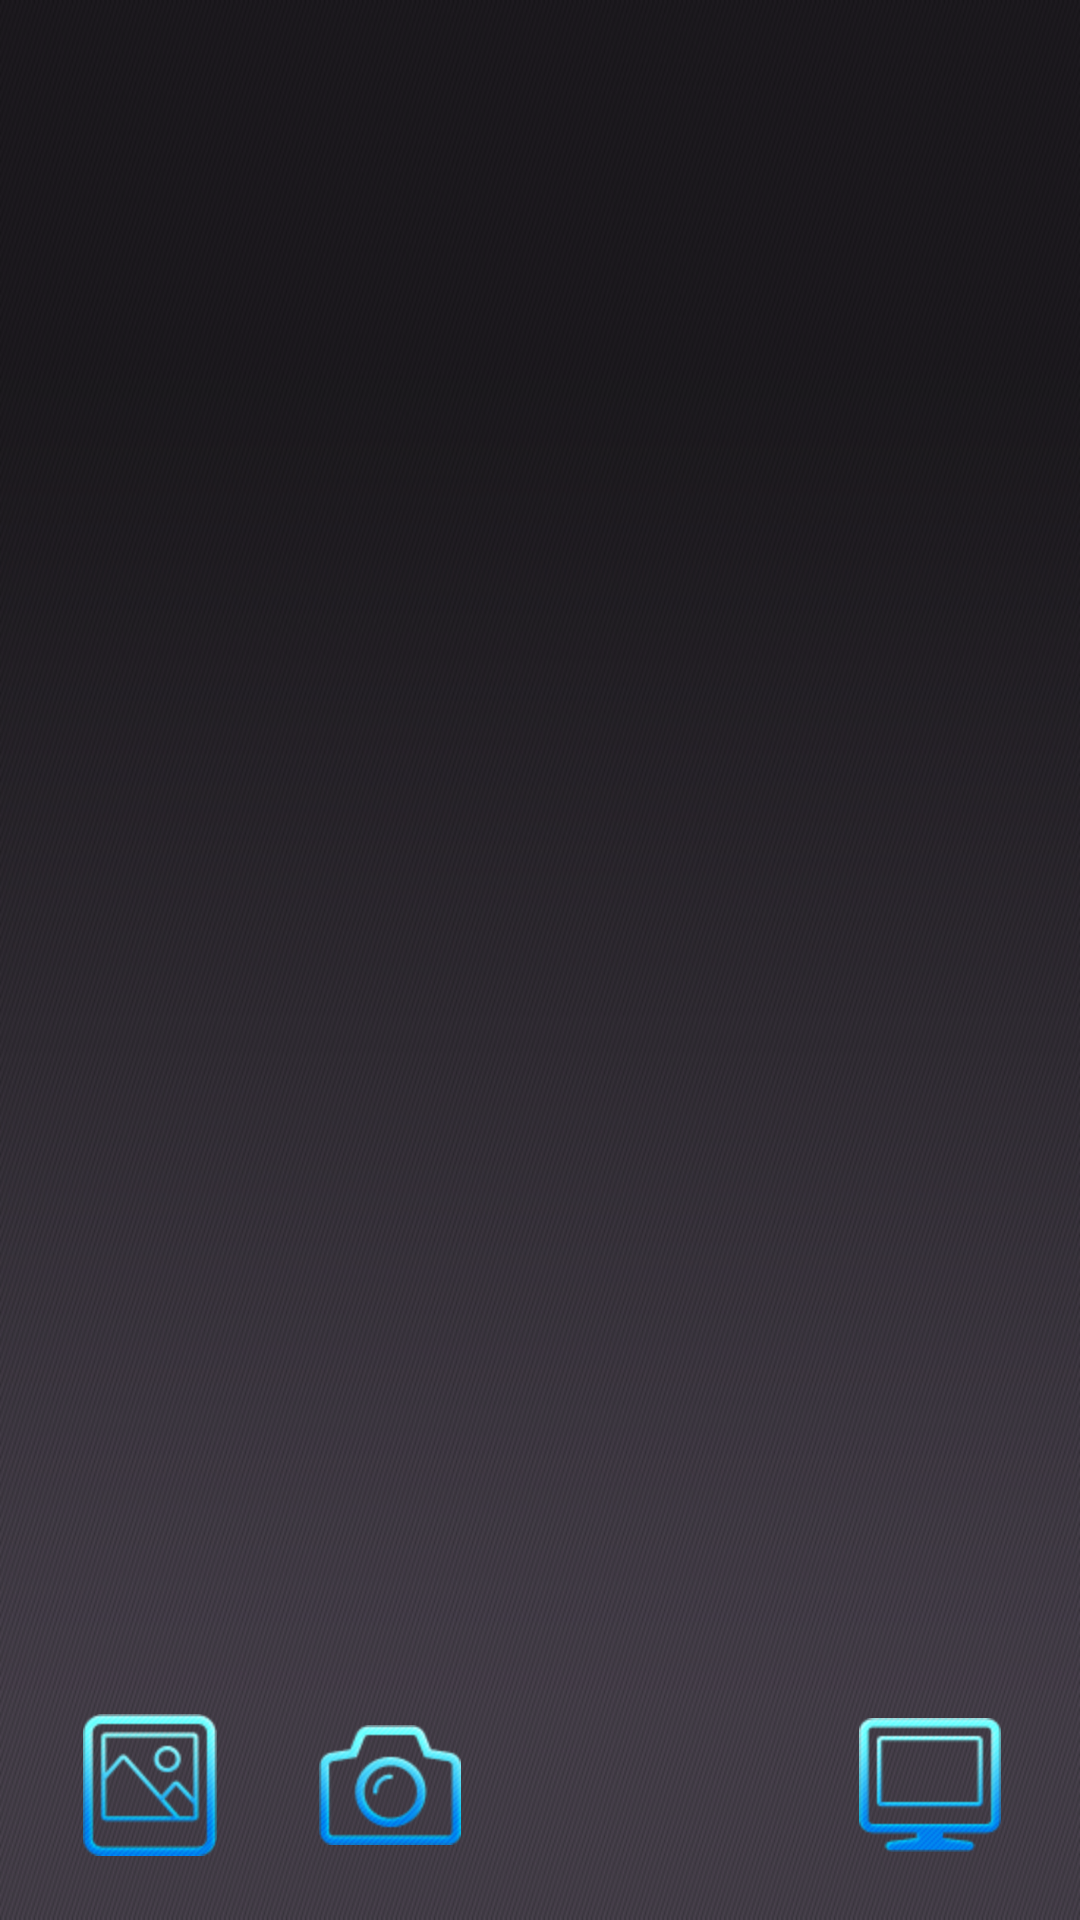

Icons on this 1080 x 1920 Android screen, each with its box as (x1, y1, x2, y2):
gallery: (83, 1714, 217, 1856)
